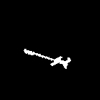double_crochet: (24, 49, 70, 67)
